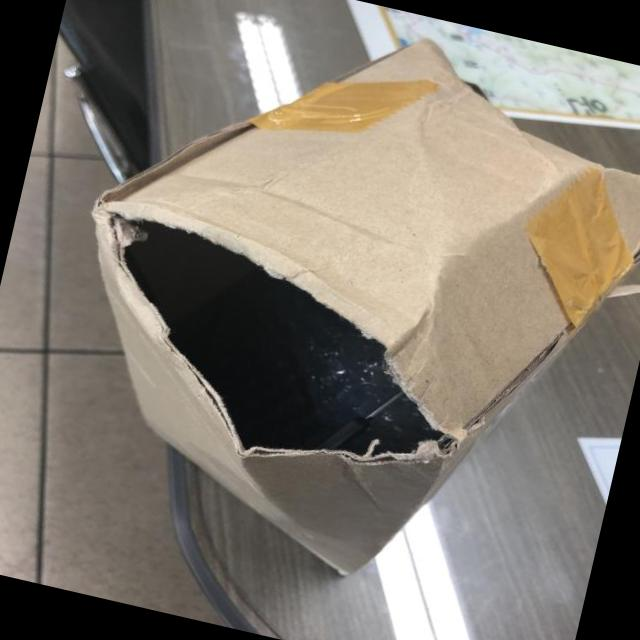box: (128, 51, 628, 559)
crushed: (455, 73, 640, 446)
tear: (90, 199, 460, 461)
